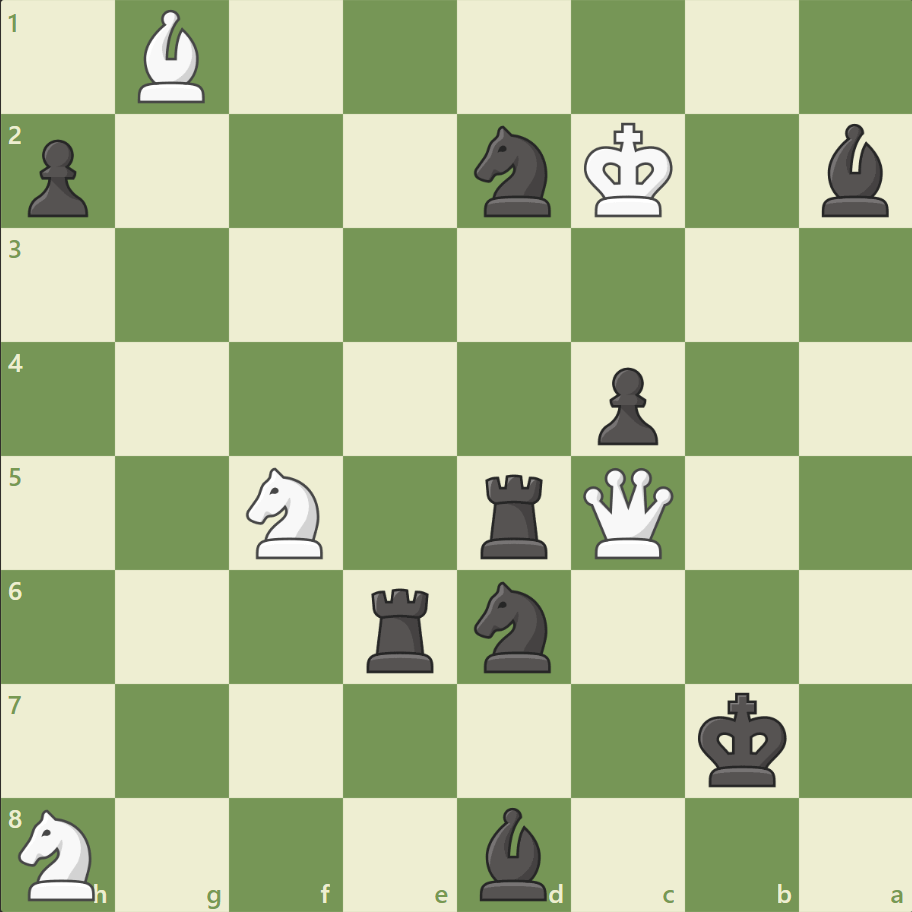B: (131, 6, 215, 109)
K: (579, 117, 679, 225)
N: (238, 461, 335, 564), (11, 802, 108, 904)
Q: (578, 463, 677, 562)
b: (471, 801, 555, 904), (812, 120, 896, 222)
k: (692, 685, 792, 793)
n: (465, 575, 562, 677), (465, 121, 562, 223)
p: (20, 132, 95, 223), (588, 359, 662, 450)
r: (473, 466, 556, 563), (360, 579, 442, 676)
